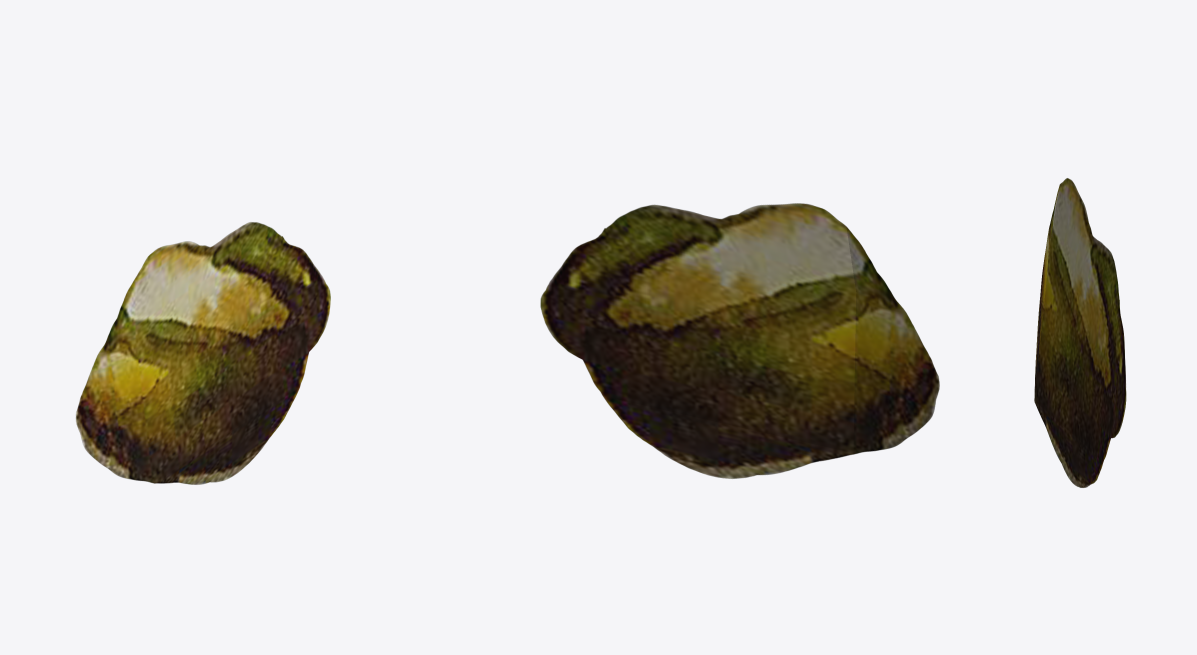
Rendered from caillou_1.glb.
3 renders of one model, left to right at view 1: azimuth 30°, elevation 25°; view 2: azimuth 150°, elevation 25°; view 3: azimuth 270°, elevation 25°, orthographic. The views are drawn at different scales.
Parts seen in each view (by area): view 1: Plane; view 2: Plane; view 3: Plane.
Part boxes in pixels (<box>): Plane: <box>75,222,330,484</box>; Plane: <box>540,203,939,478</box>; Plane: <box>1034,178,1126,487</box>.
Size of the model in its own units: 2.32 by 2.5 by 0.6726.
Materials: 1 (1 with a texture image).
